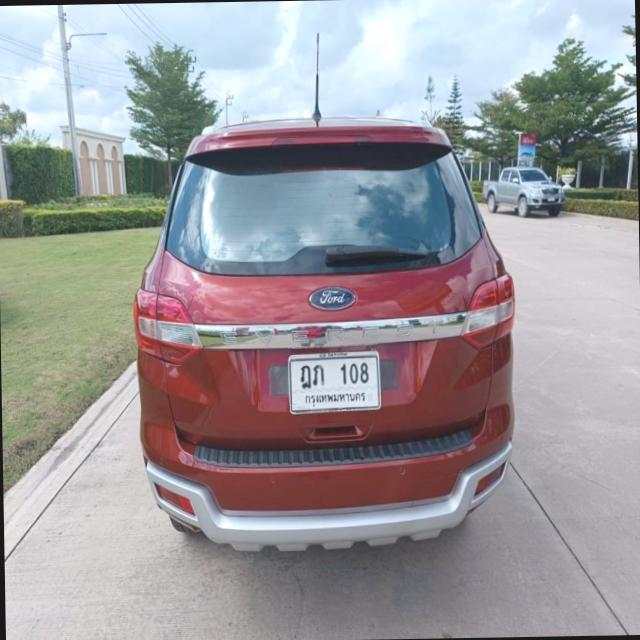license_plate: (284, 350, 382, 416)
